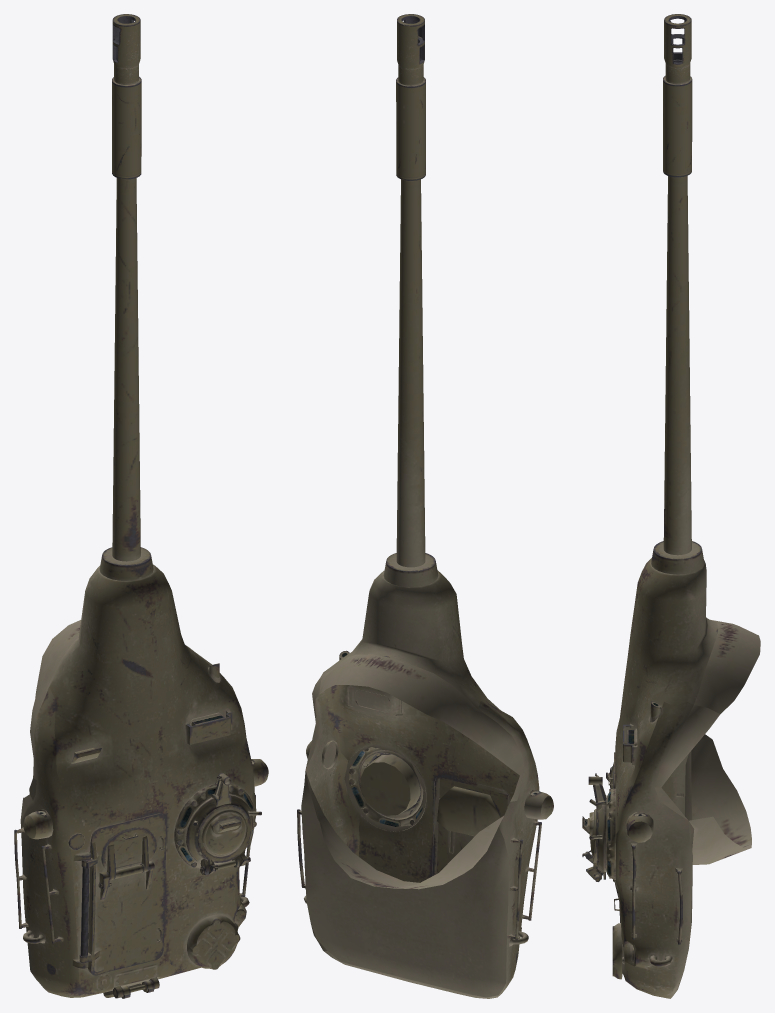
Rendered from Gun_02.glb.
The picture shows the model from 3 angles, left to right: view 1: azimuth 30°, elevation 25°; view 2: azimuth 150°, elevation 25°; view 3: azimuth 270°, elevation 25°; orthographic projection. The views are drawn at different scales.
Visible parts, largest first — view 1: set_0_group_0; view 2: set_0_group_0; view 3: set_0_group_0.
Boxes of the visible parts, left/top/right/bottom form: set_0_group_0: left=14, top=14, right=268, bottom=998; set_0_group_0: left=297, top=14, right=553, bottom=998; set_0_group_0: left=582, top=14, right=760, bottom=998.
Size of the model in its own units: 2.56 by 9.8 by 1.67.
1 material, 1 textured.
